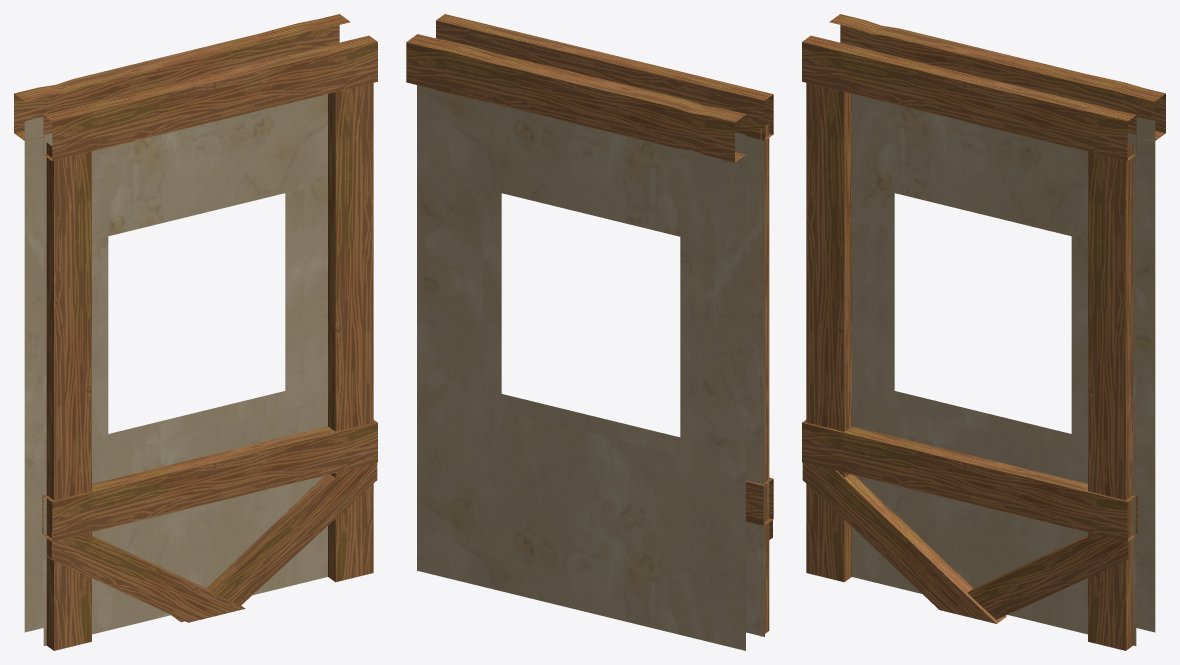
File: Wall_Plaster_Window_Wide_Flat2.gltf
The picture shows the model from 3 angles, left to right: view 1: azimuth 30°, elevation 25°; view 2: azimuth 150°, elevation 25°; view 3: azimuth 330°, elevation 25°; orthographic projection.
Parts seen in each view (by area): view 1: Wall_Plaster_Window_Wide_Flat2; view 2: Wall_Plaster_Window_Wide_Flat2; view 3: Wall_Plaster_Window_Wide_Flat2.
Part boxes in pixels (<box>): Wall_Plaster_Window_Wide_Flat2: <box>14,14,377,650</box>; Wall_Plaster_Window_Wide_Flat2: <box>406,14,773,650</box>; Wall_Plaster_Window_Wide_Flat2: <box>802,14,1165,650</box>.
Bounding box in the file's own units: 2 × 3.15 × 0.4065.
Materials: 2 (2 with a texture image).
